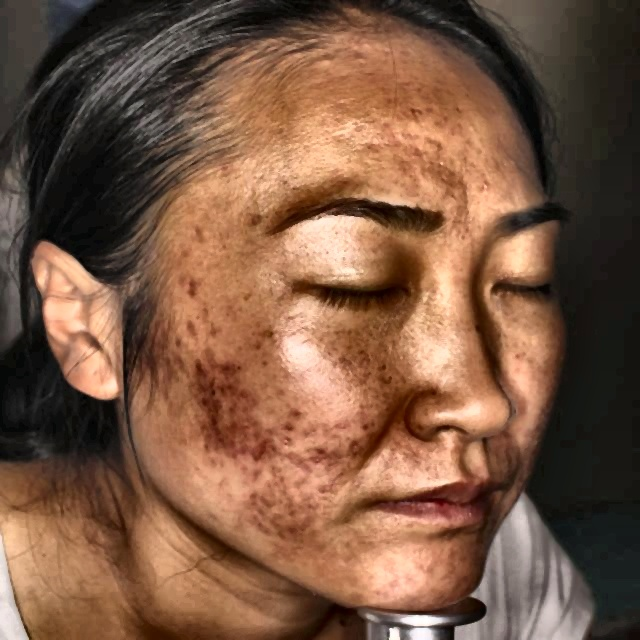papule: (462, 172, 498, 210), (208, 432, 250, 461), (176, 266, 212, 299), (401, 98, 434, 130), (309, 470, 344, 498), (208, 381, 246, 404), (271, 415, 300, 444), (423, 131, 448, 163), (478, 143, 503, 174), (244, 500, 266, 530), (174, 360, 205, 381), (254, 439, 278, 465), (303, 442, 327, 467), (171, 310, 194, 336), (438, 554, 464, 577), (208, 411, 232, 435), (212, 358, 236, 382), (235, 412, 262, 433), (406, 137, 422, 167), (424, 556, 442, 580), (385, 570, 409, 586)
